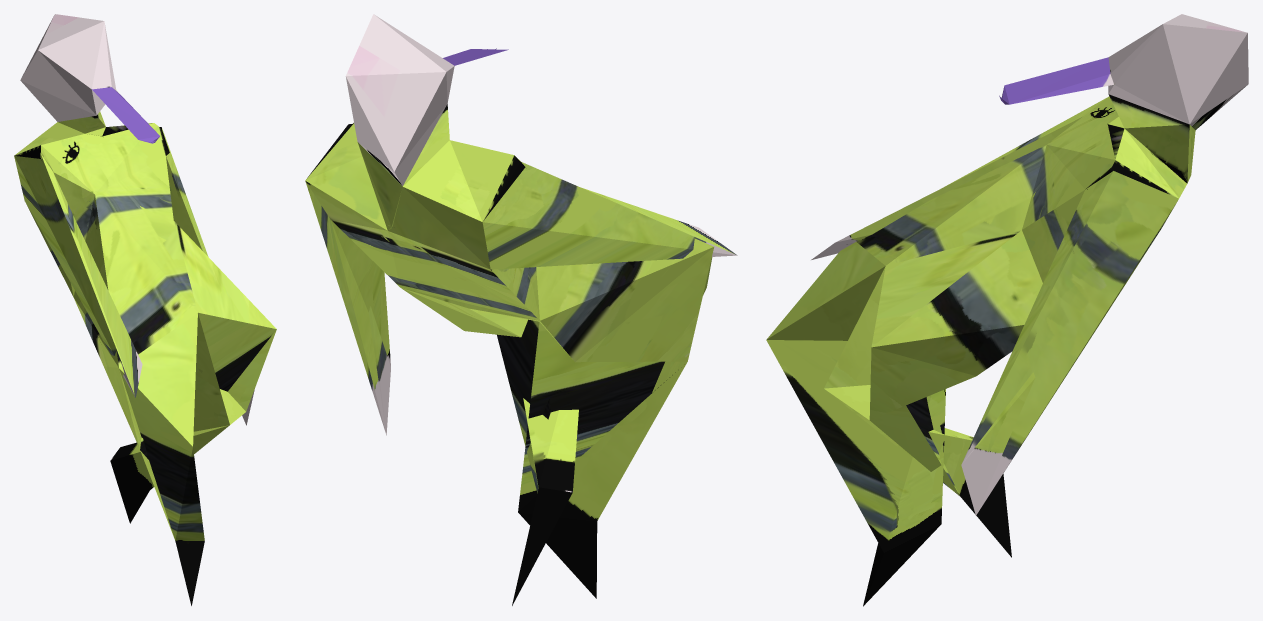
The model's file is lcb.glb.
3 views of the same model, side by side, from view 1: azimuth 30°, elevation 25°; view 2: azimuth 150°, elevation 25°; view 3: azimuth 270°, elevation 25° (orthographic). The views are drawn at different scales.
Visible parts, largest first — view 1: lowbody_b; view 2: lowbody_b; view 3: lowbody_b.
Part boxes in pixels (left/top/right/bottom): lowbody_b: left=14, top=14, right=276, bottom=605; lowbody_b: left=305, top=14, right=737, bottom=605; lowbody_b: left=766, top=14, right=1248, bottom=606.
Size of the model in its own units: 0.4229 by 1.09 by 0.7915.
Materials: 1 (1 with a texture image).
